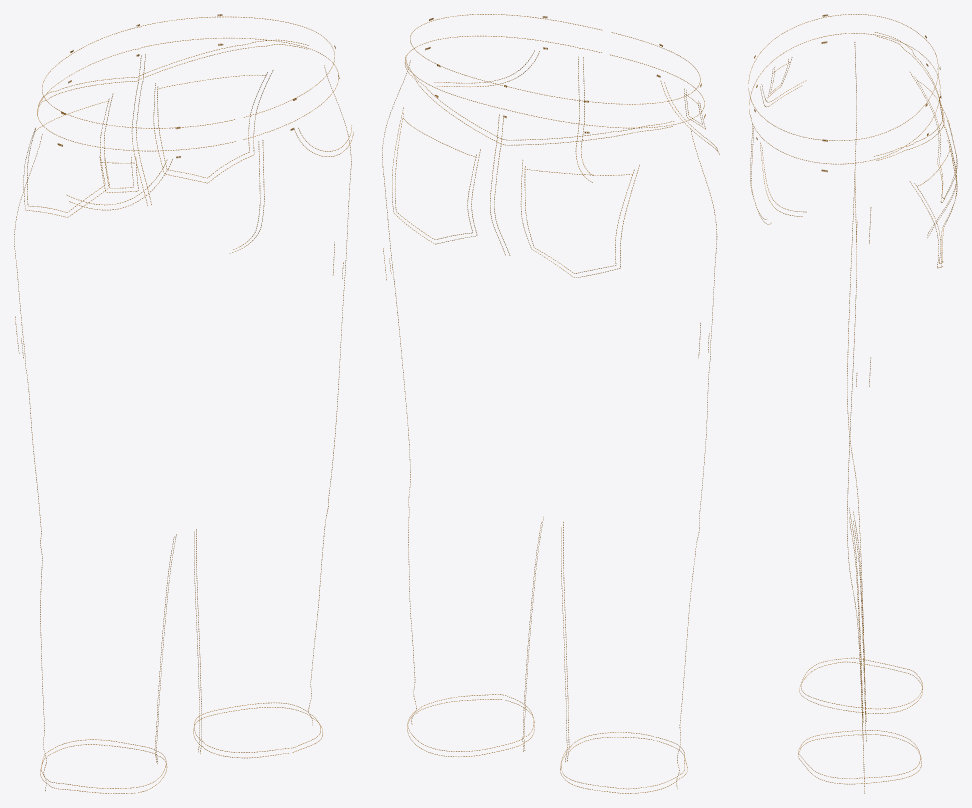
File: 27_vaquero_mom_costuras.glb
3 views of the same model, side by side, from view 1: azimuth 30°, elevation 25°; view 2: azimuth 150°, elevation 25°; view 3: azimuth 270°, elevation 25° (orthographic). The views are drawn at different scales.
Parts seen in each view (by area): view 1: stitch; view 2: stitch; view 3: stitch.
Boxes of the visible parts, x1,y1,x2,y2 form: stitch: (14,14,353,793); stitch: (382,14,719,793); stitch: (748,14,957,793).
Bounding box in the file's own units: 0.4701 × 0.9397 × 0.2677.
